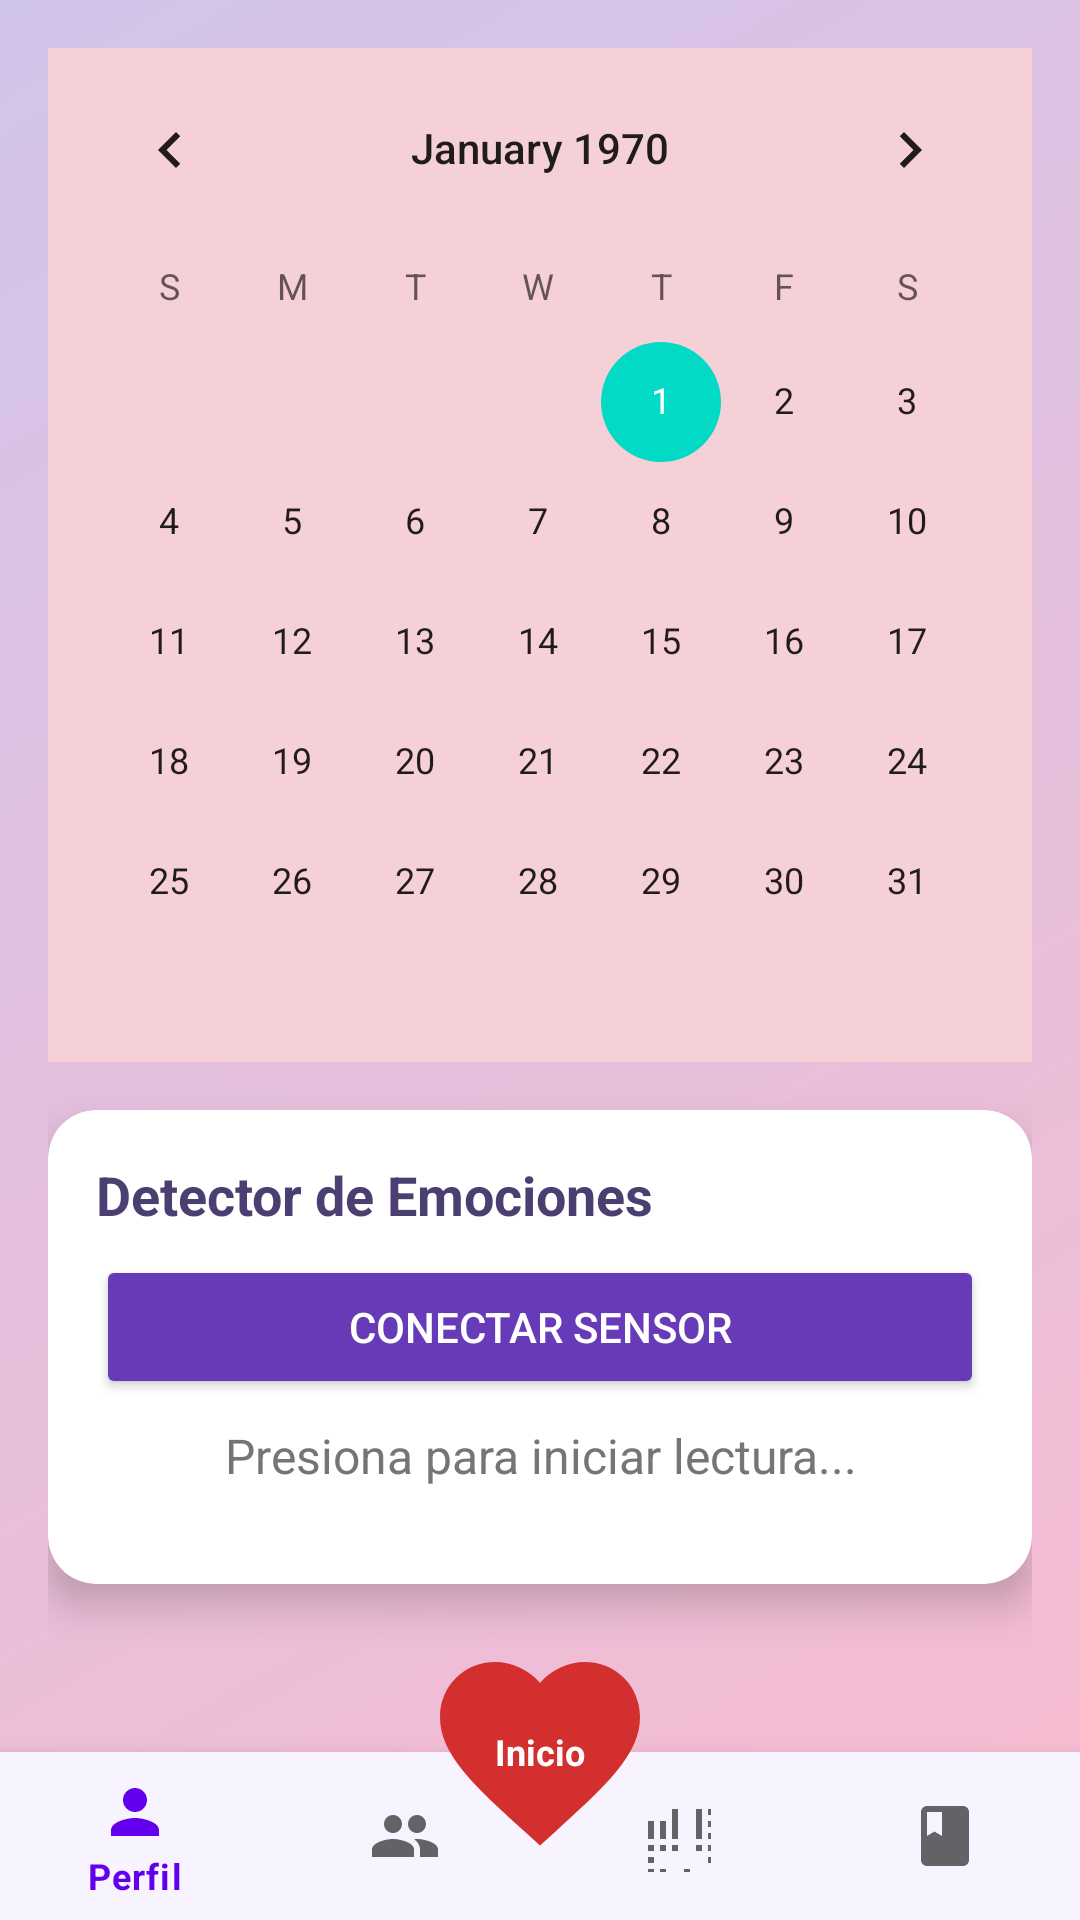

Icon click points for this 1080w x 1920h phone screenshot, format (x=x, y=y):
corazon shape: (x=540, y=1752)
